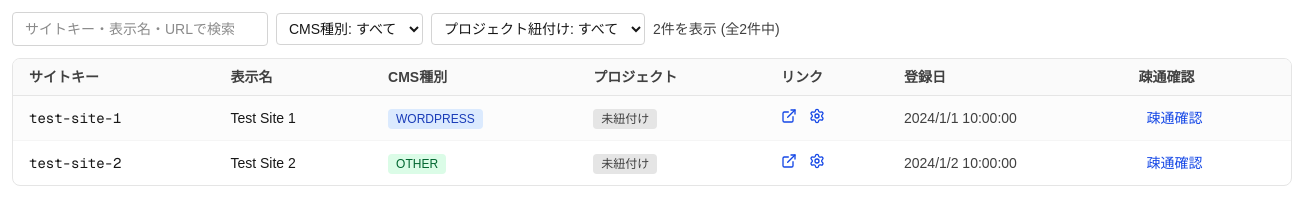
Test: SiteListTable › 自動構築・環境の表示 › CMS種別で絞り込むと、別のCMS種別のサイトは除外される(WORDPRESS 以外の種別は灰緑のバッジ)
The width and height of the screenshot is (1292, 203).
Select "WORDPRESS" in the dropdown named "CMS種別で絞り込む" at (350, 29), box [276, 13, 423, 45]
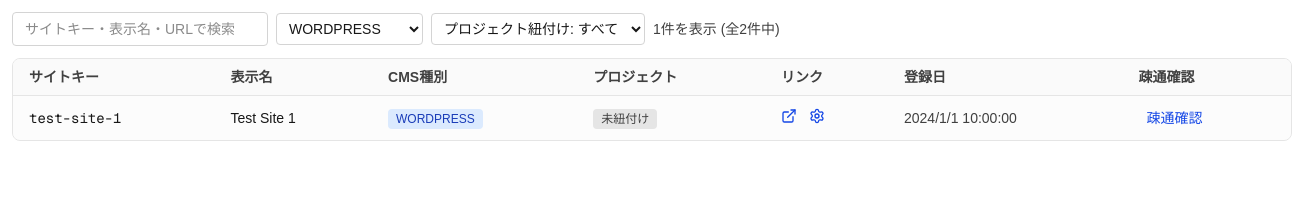
Expected: the text "Test Site 1" is shown, [214, 96, 372, 140]
Expected: the text "Test Site 2" is gone
